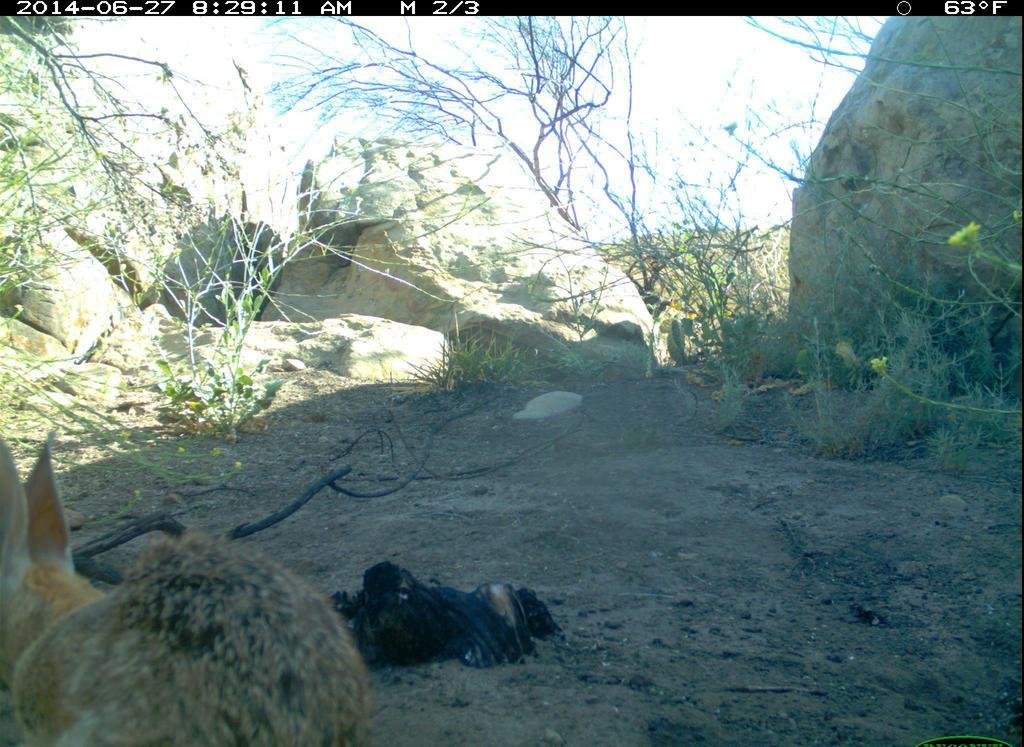rabbit: (3, 418, 385, 747)
